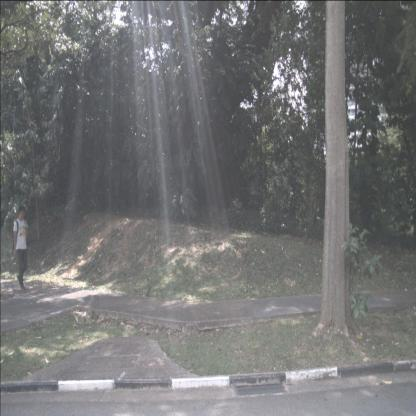human-pedestrian-adult: (13, 205, 28, 290)
